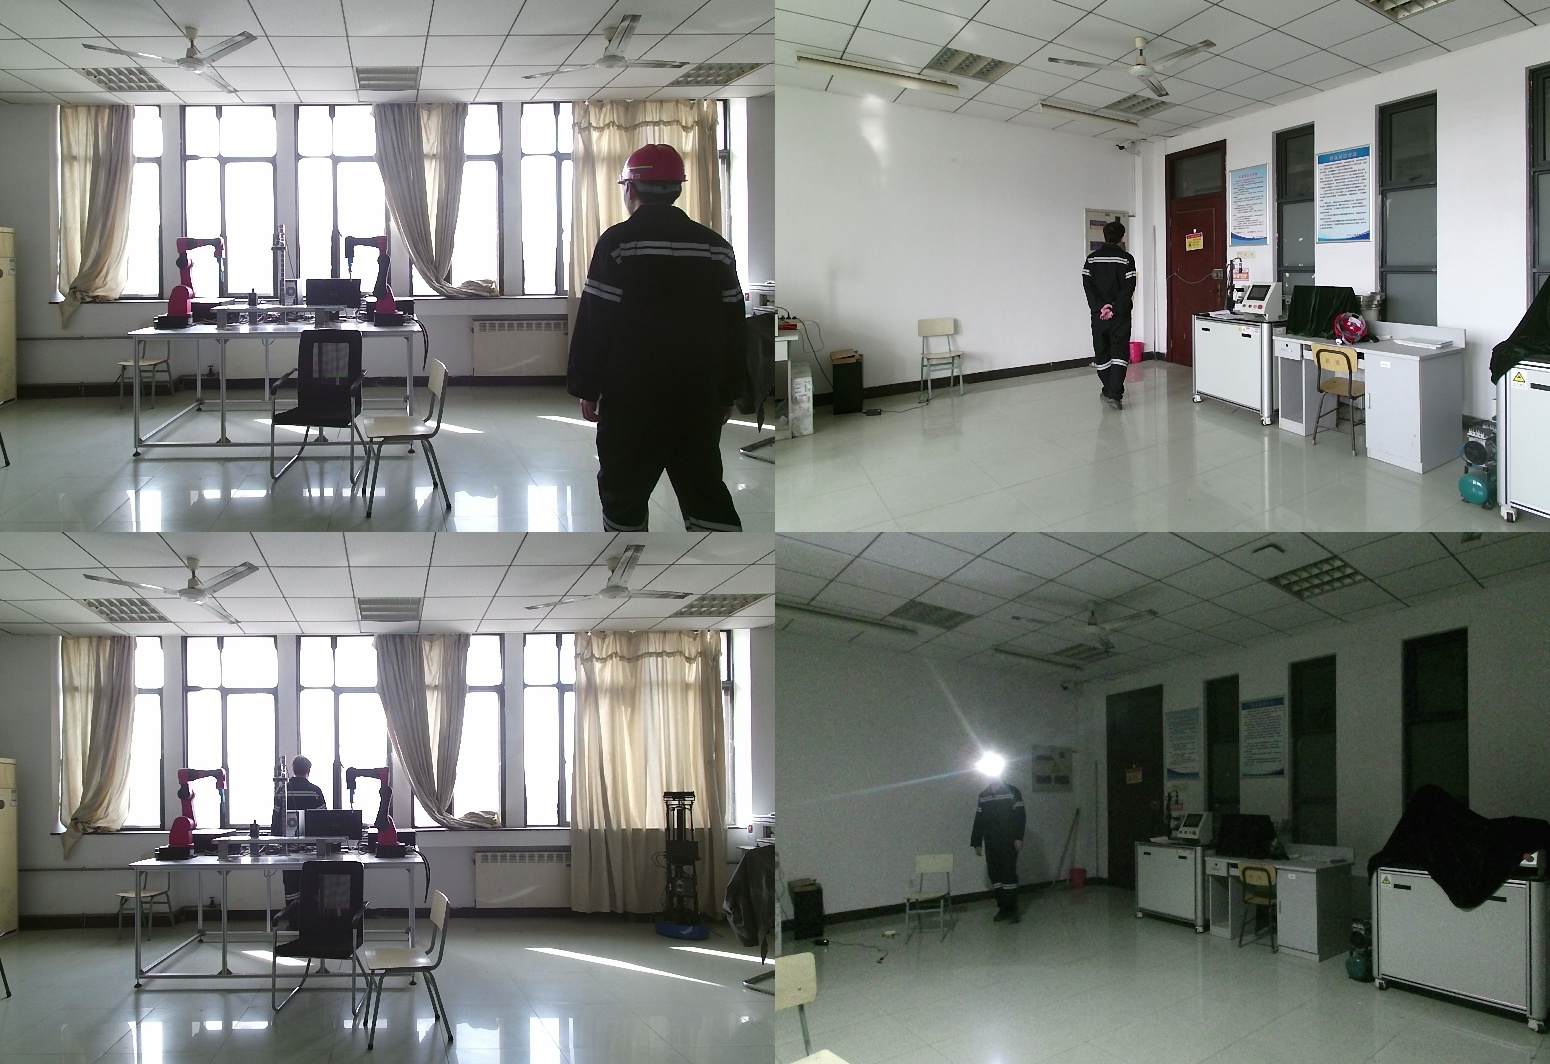person: (575, 145, 758, 532), (1078, 222, 1145, 417), (272, 756, 336, 954), (969, 758, 1037, 928)
